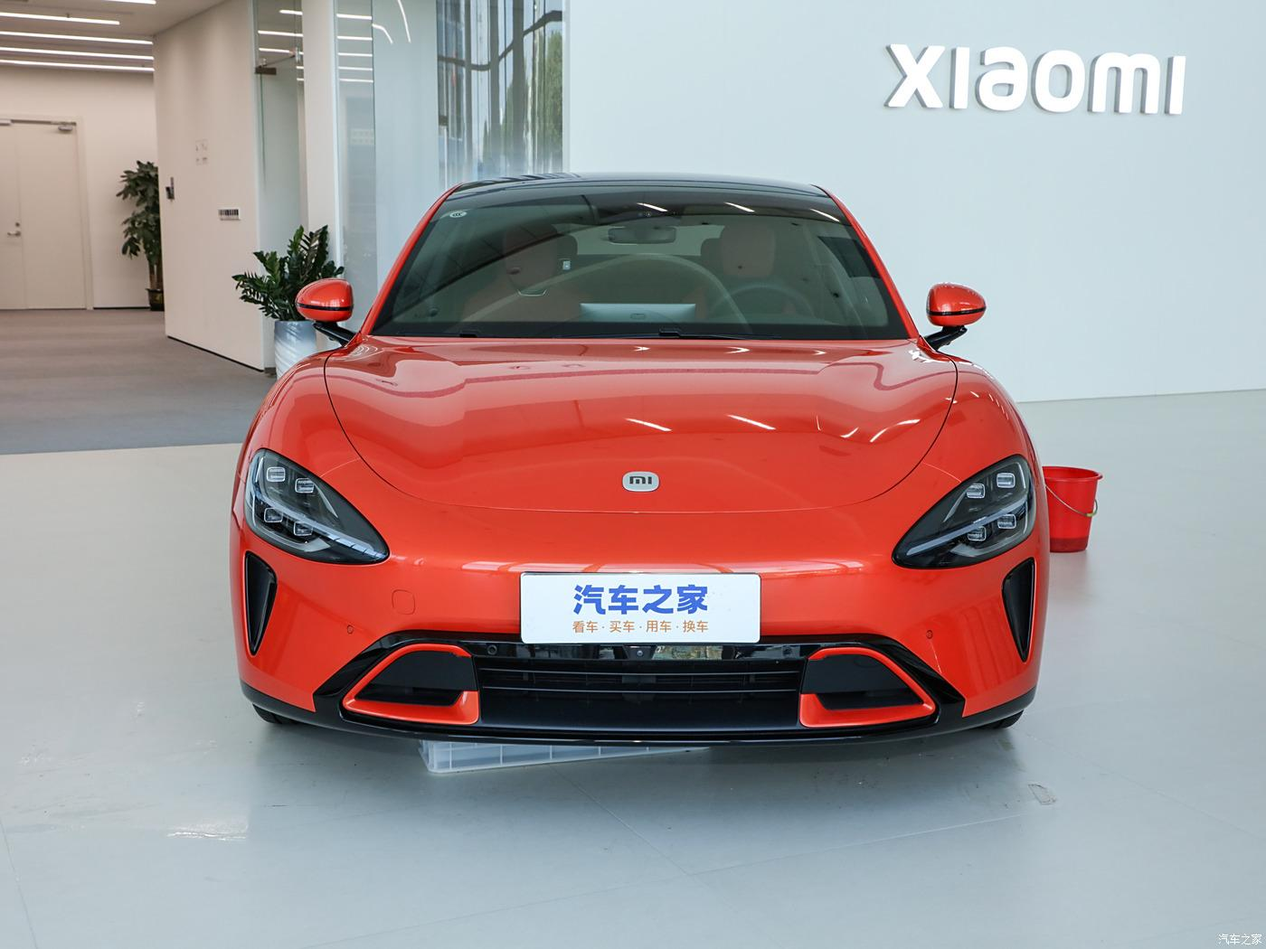XIAOMI: (622, 470, 660, 492)
